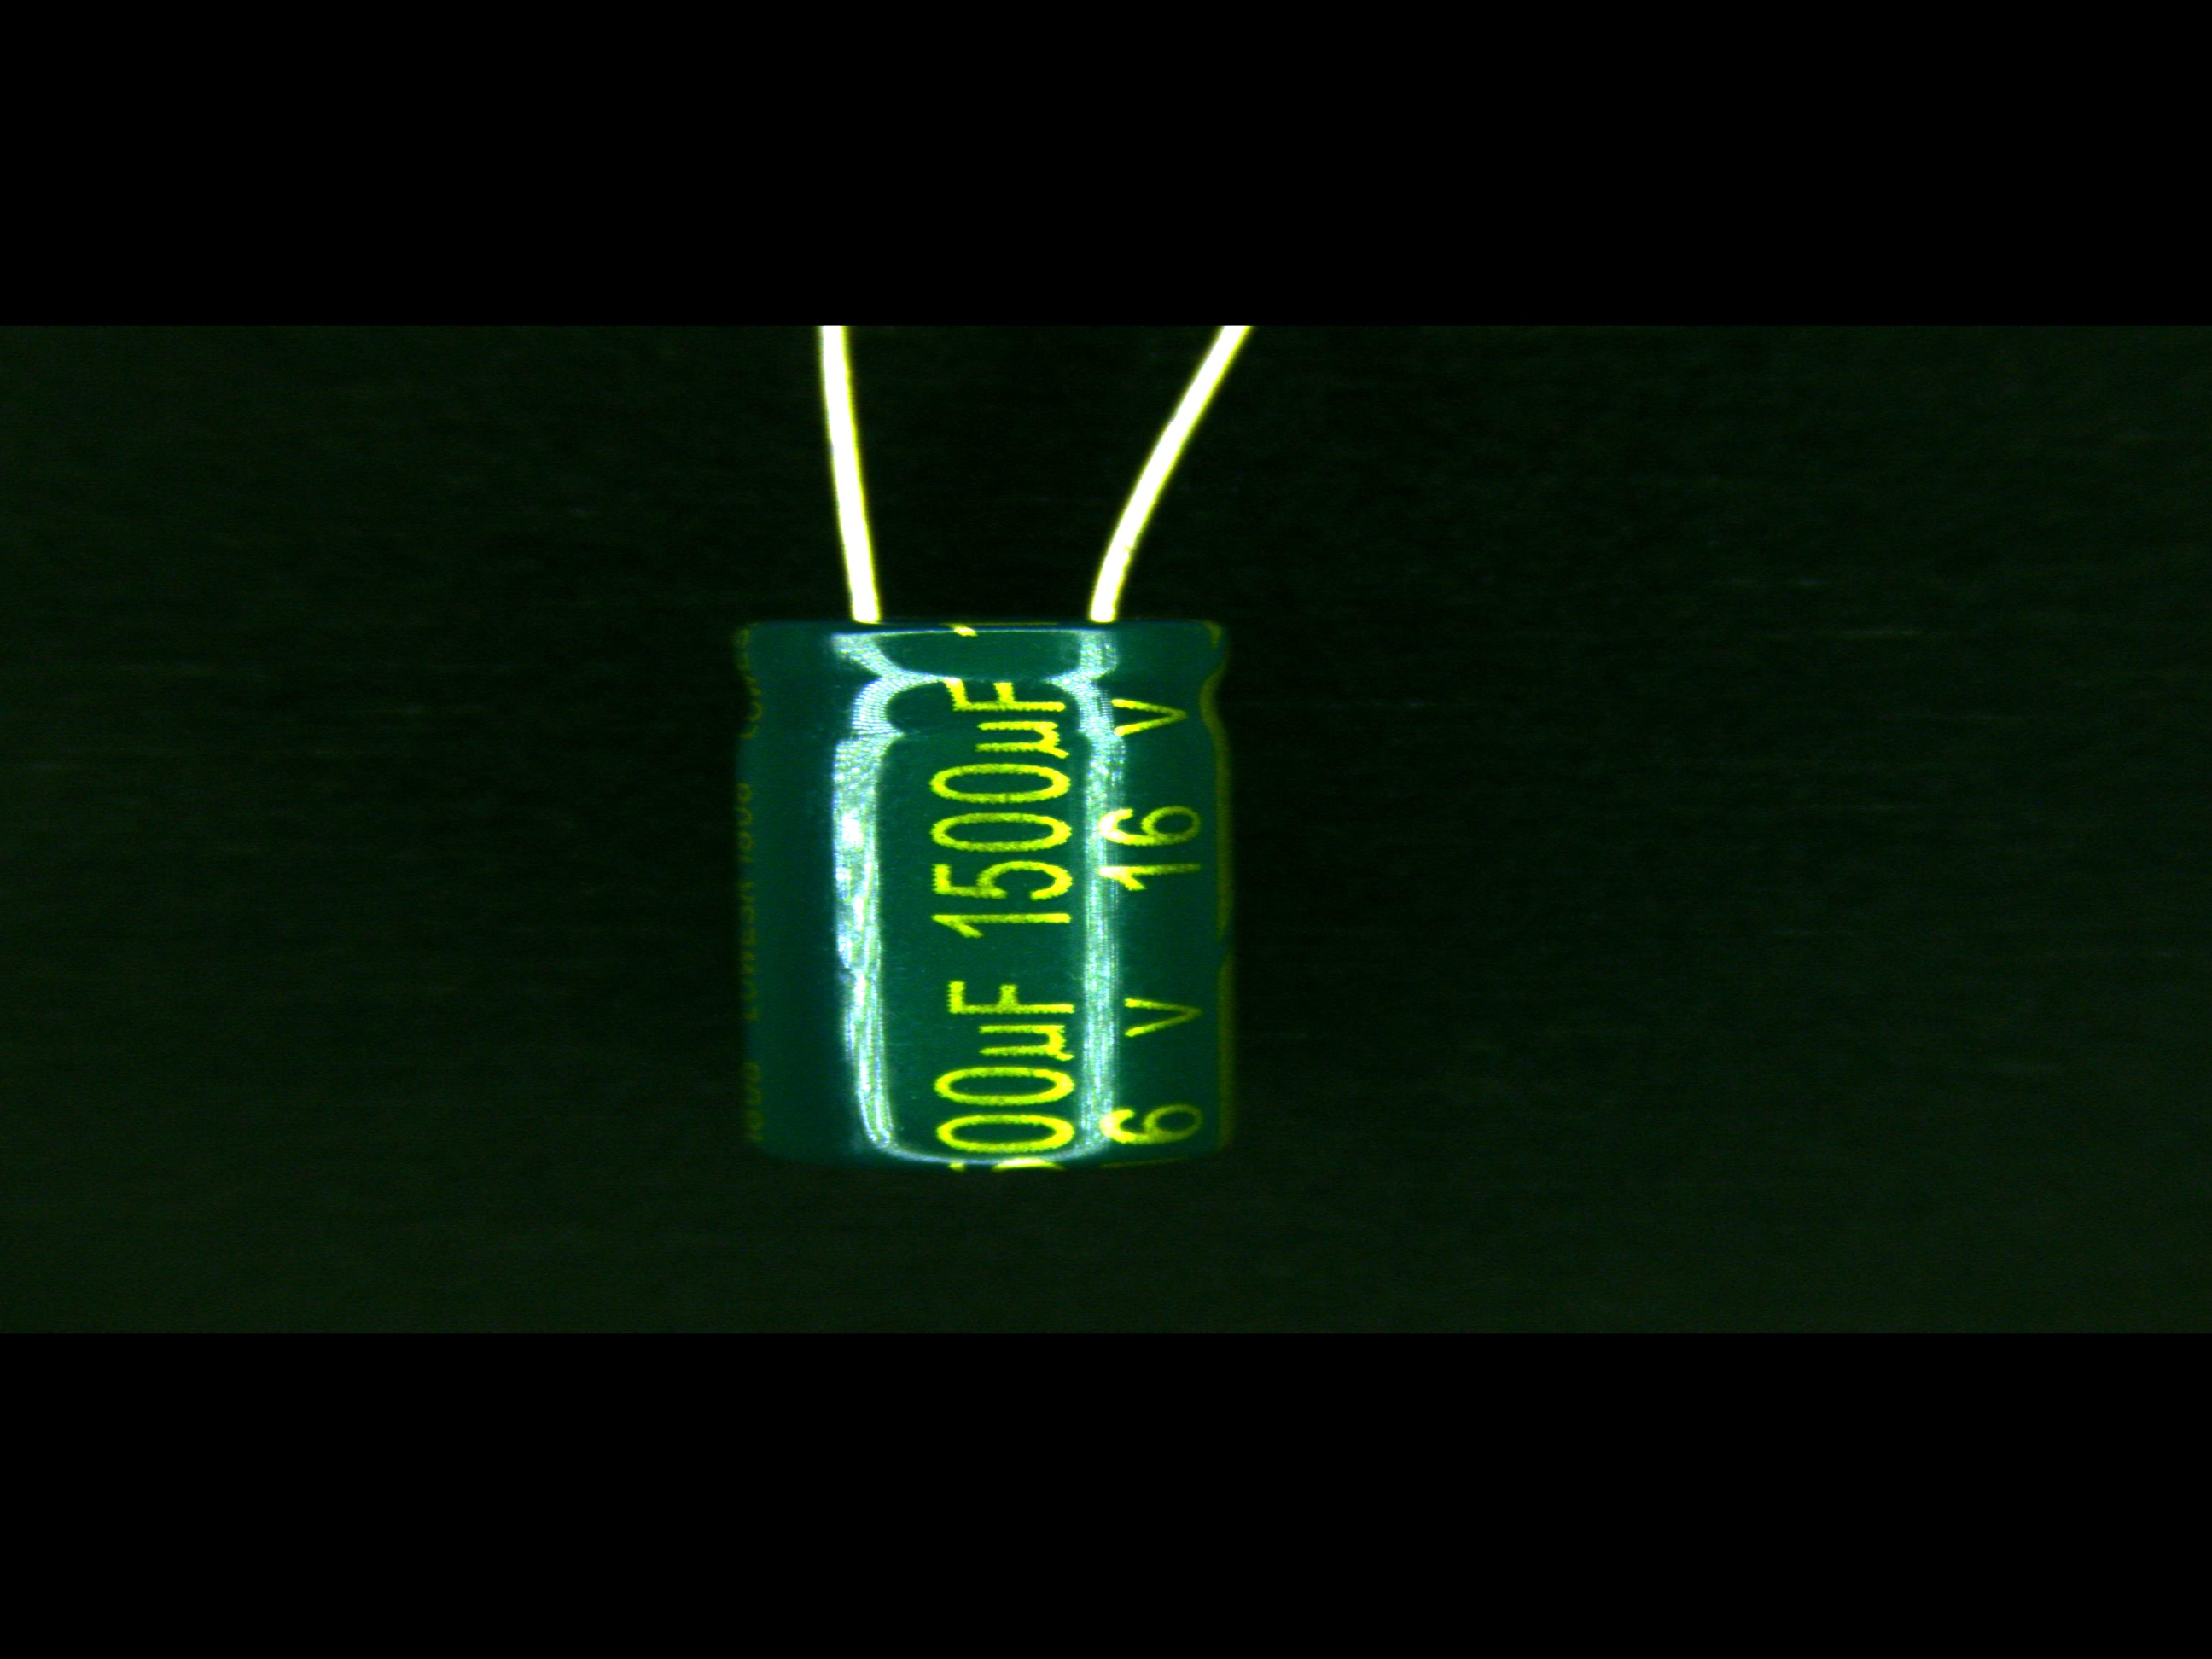c1: (719, 538, 1249, 1176)
